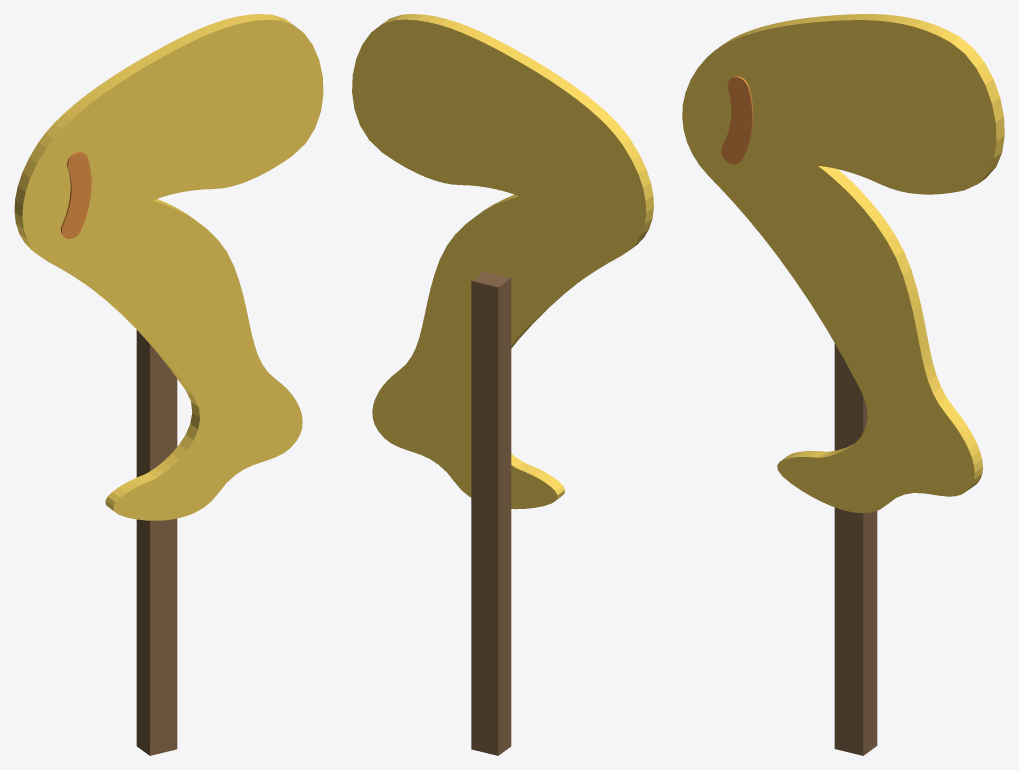
The model's file is jambe.glb.
3 renders of one model, left to right at view 1: azimuth 30°, elevation 25°; view 2: azimuth 150°, elevation 25°; view 3: azimuth 330°, elevation 25°, orthographic. The views are drawn at different scales.
Bounding box in the file's own units: 0.6569 × 1.5 × 0.089.
